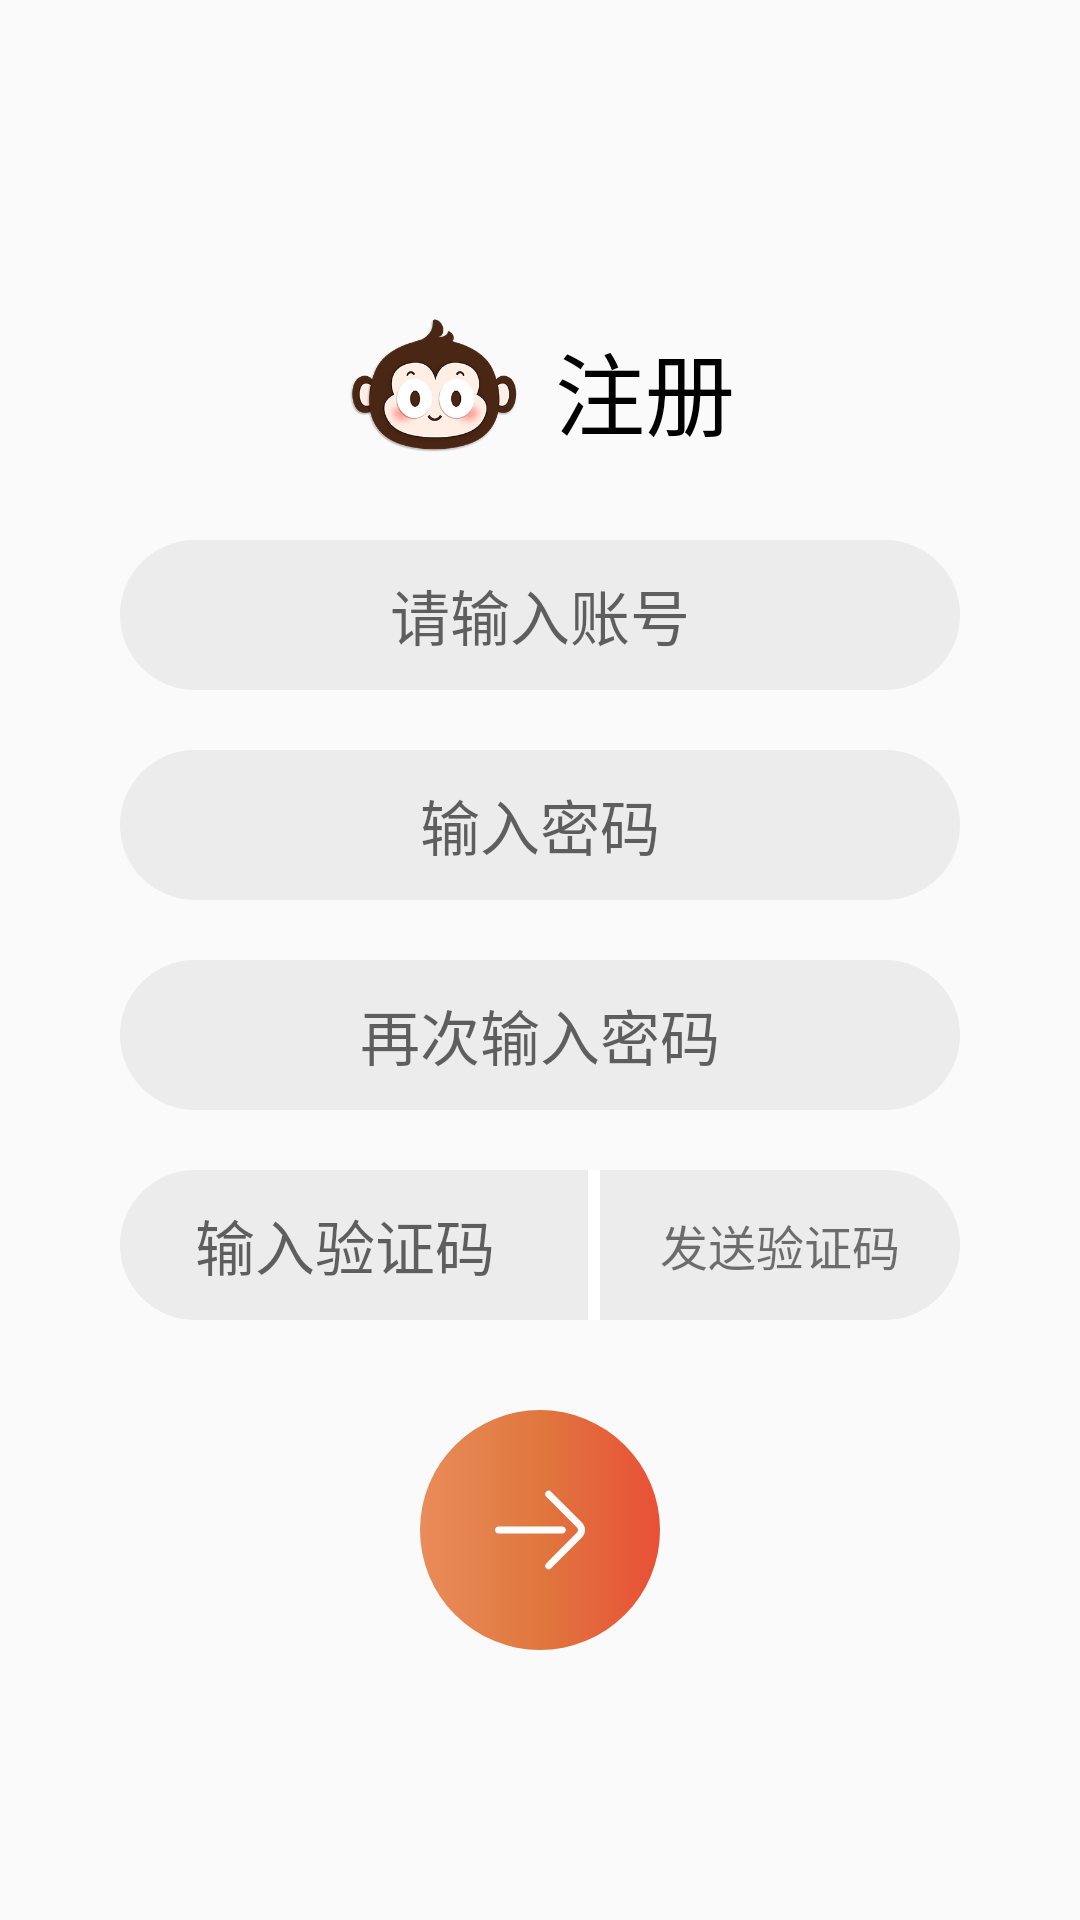

Locate icon controls on the screen. Image size 1080×1920, boxes as (x1, y1, x2, y2).
login right: (420, 1410, 660, 1650)
